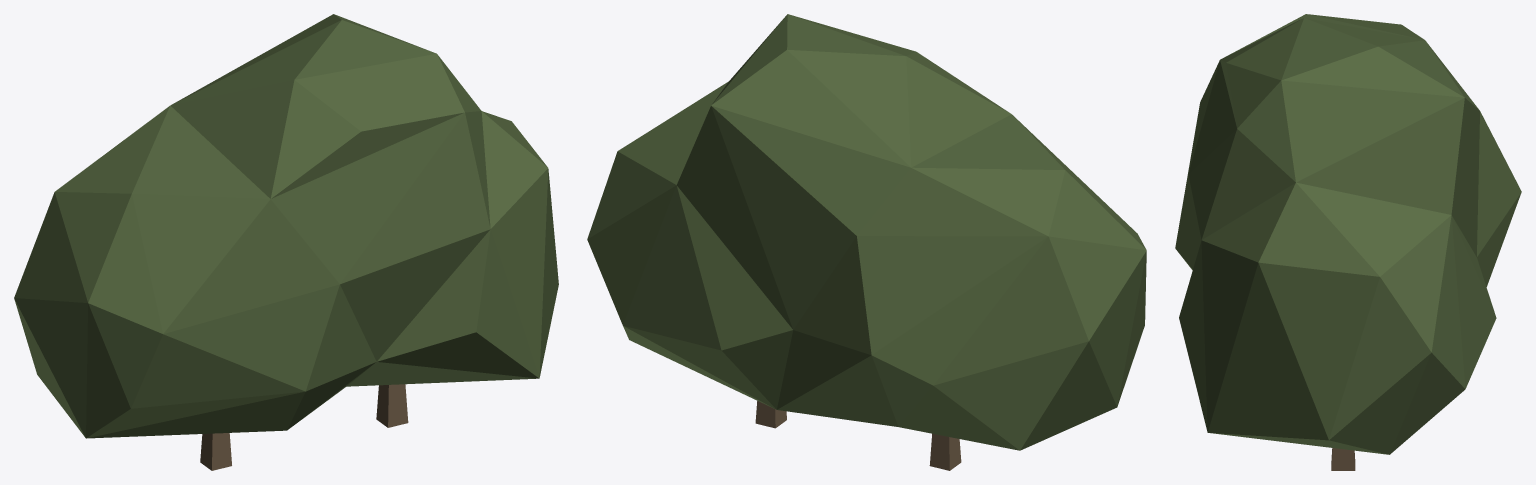
File: SM_Envr_Nature_Plant_Bush_05.fbx
3 views of the same model, side by side, from view 1: azimuth 30°, elevation 25°; view 2: azimuth 150°, elevation 25°; view 3: azimuth 270°, elevation 25° (orthographic). The views are drawn at different scales.
Parts seen in each view (by area): view 1: SM_Envr_Nature_Plant_Bush_05; view 2: SM_Envr_Nature_Plant_Bush_05; view 3: SM_Envr_Nature_Plant_Bush_05.
Part boxes in pixels (<box>): SM_Envr_Nature_Plant_Bush_05: <box>14,14,558,470</box>; SM_Envr_Nature_Plant_Bush_05: <box>587,14,1146,470</box>; SM_Envr_Nature_Plant_Bush_05: <box>1175,14,1521,470</box>.
Bounding box in the file's own units: 232 × 173 × 135.
